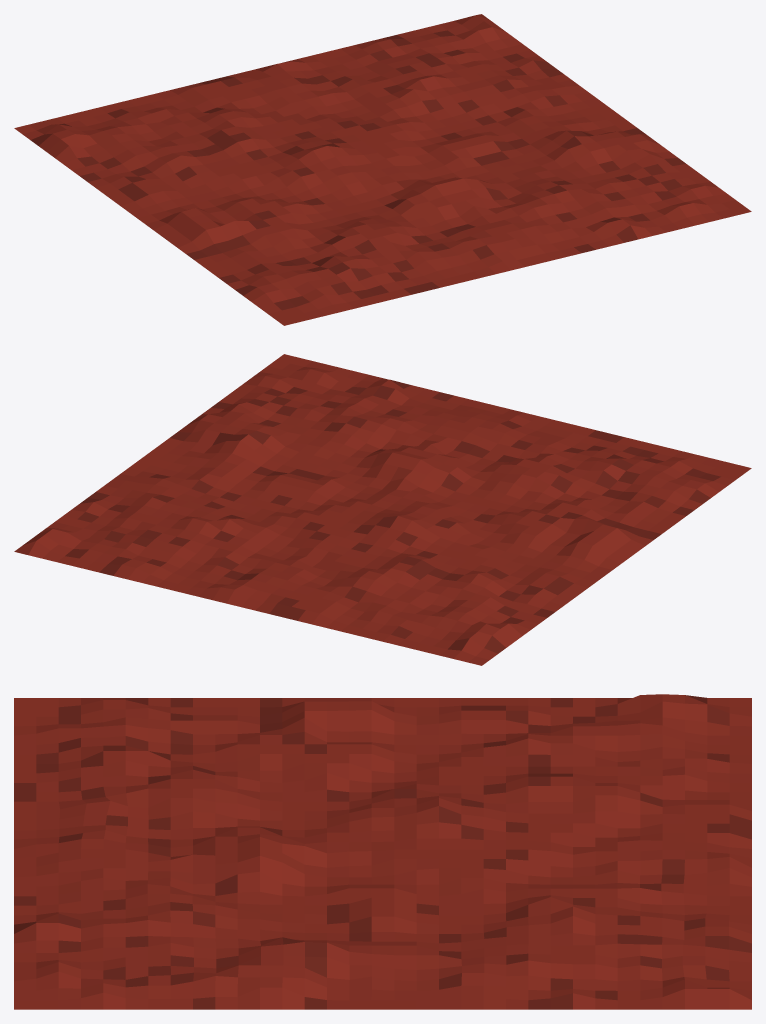
File: Terrain_3_Red.fbx
The picture shows the model from 3 angles, top to bottom: view 1: azimuth 30°, elevation 25°; view 2: azimuth 150°, elevation 25°; view 3: azimuth 270°, elevation 25°; orthographic projection. The views are drawn at different scales.
Parts seen in each view (by area): view 1: Terrain_3_Red; view 2: Terrain_3_Red; view 3: Terrain_3_Red.
Boxes of the visible parts, x1,y1,x2,y2 form: Terrain_3_Red: (14,14,751,325); Terrain_3_Red: (14,354,751,665); Terrain_3_Red: (14,694,751,1009).
Bounding box in the file's own units: 10000 × 362 × 10000.
